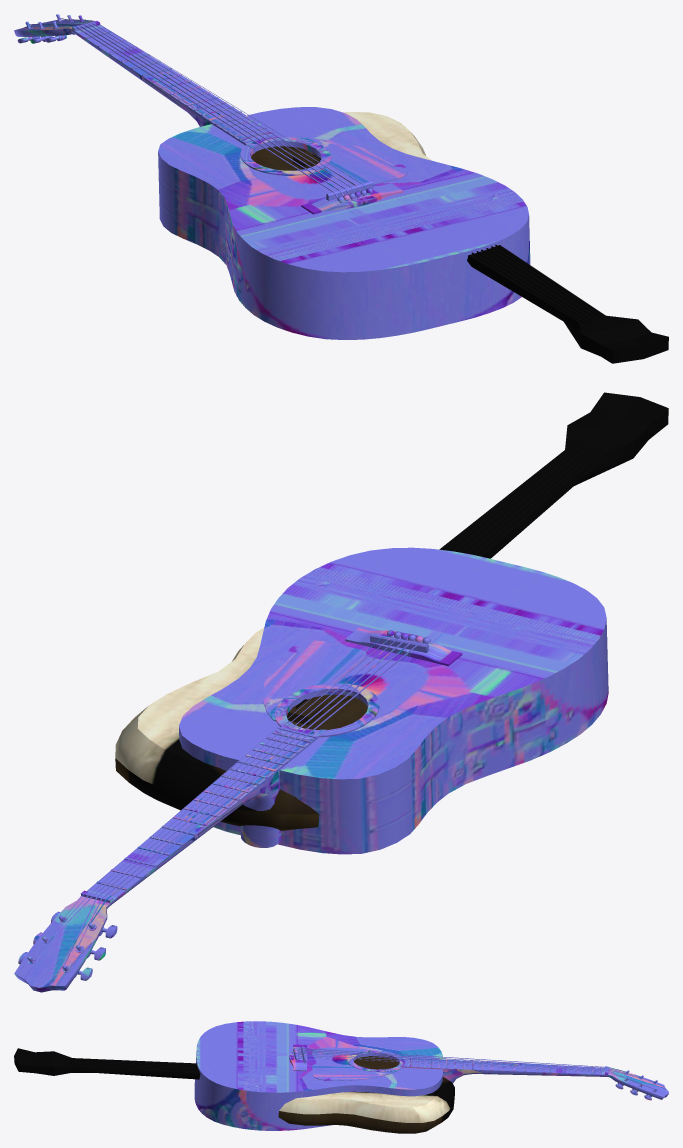
The model's file is Guitar.glb.
The picture shows the model from 3 angles, top to bottom: view 1: azimuth 30°, elevation 25°; view 2: azimuth 150°, elevation 25°; view 3: azimuth 270°, elevation 25°; orthographic projection. The views are drawn at different scales.
Visible parts, largest first — view 1: Guitar; view 2: Guitar; view 3: Guitar.
Boxes of the visible parts, left/top/right/bottom form: Guitar: left=14, top=14, right=668, bottom=363; Guitar: left=14, top=392, right=668, bottom=992; Guitar: left=14, top=1021, right=668, bottom=1133.
Bounding box in the file's own units: 4.37 × 1.59 × 15.77.
2 materials, 2 textured.
